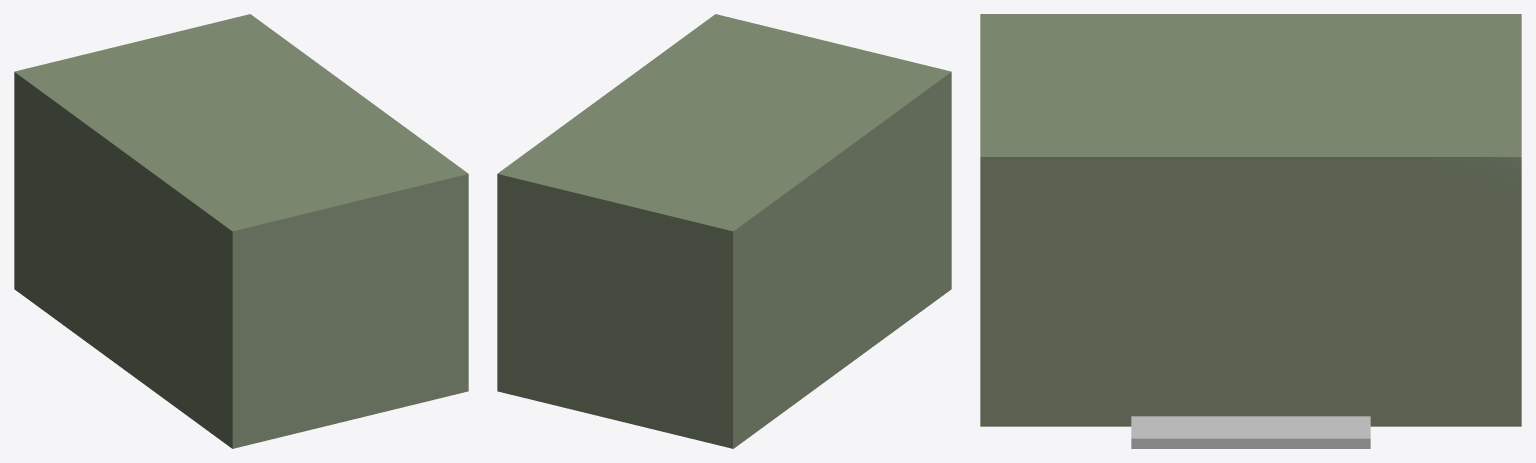
Rendered from domwet.glb.
3 views of the same model, side by side, from view 1: azimuth 30°, elevation 25°; view 2: azimuth 150°, elevation 25°; view 3: azimuth 270°, elevation 25° (orthographic). The views are drawn at different scales.
Visible parts, largest first — view 1: Cube; view 2: Cube; view 3: Cube, Cube.001.
Boxes of the visible parts, x1,y1,x2,y2 form: Cube: (14, 14, 468, 448); Cube: (497, 14, 951, 448); Cube: (980, 14, 1521, 426); Cube.001: (1131, 416, 1370, 448).
Bounding box in the file's own units: 9.67 × 7.35 × 13.38.
2 materials, 2 textured.
